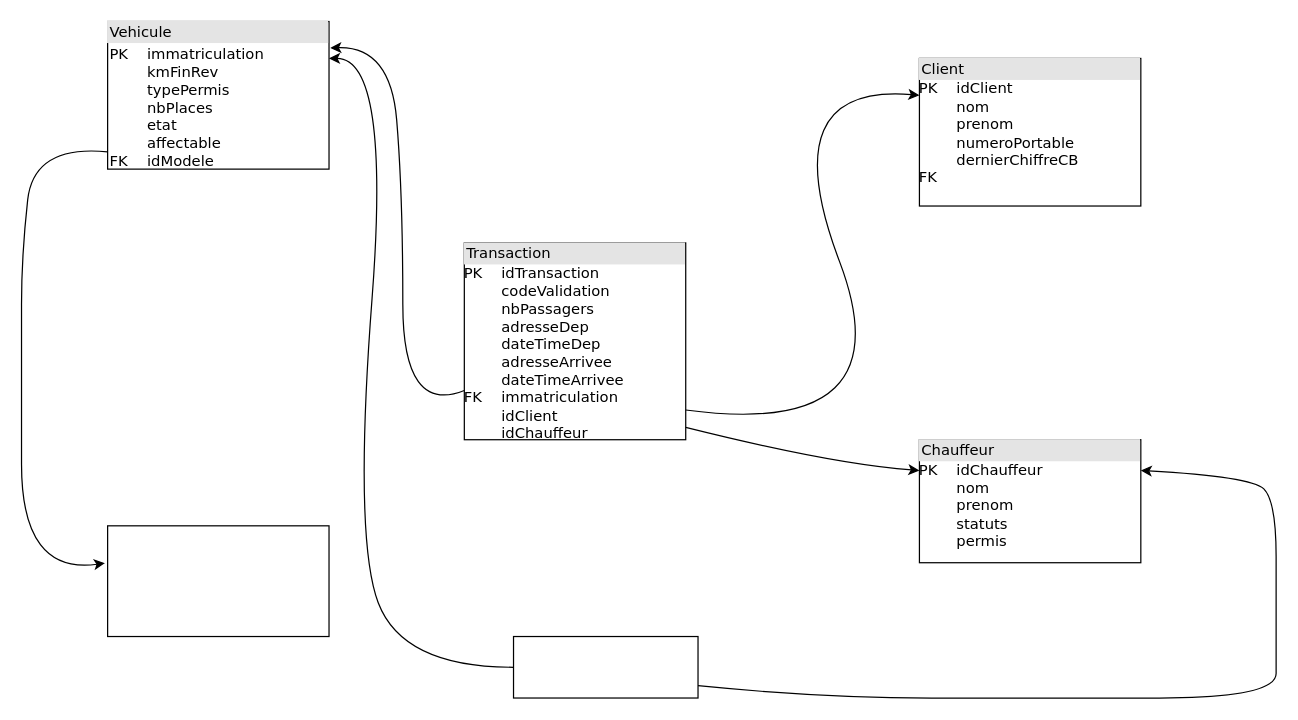
This 1298x720 diagram has some shape labels left out. Each missing label, with the centre of its shape:
Conduire FK immatriculation idChauffeur: the point at 605,666
Modele PK idModele kmEntreRev marque FK: the point at 217,581
